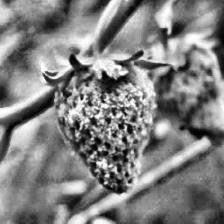Powdery Mildew Fruit: (52, 54, 158, 194), (146, 37, 224, 135)
